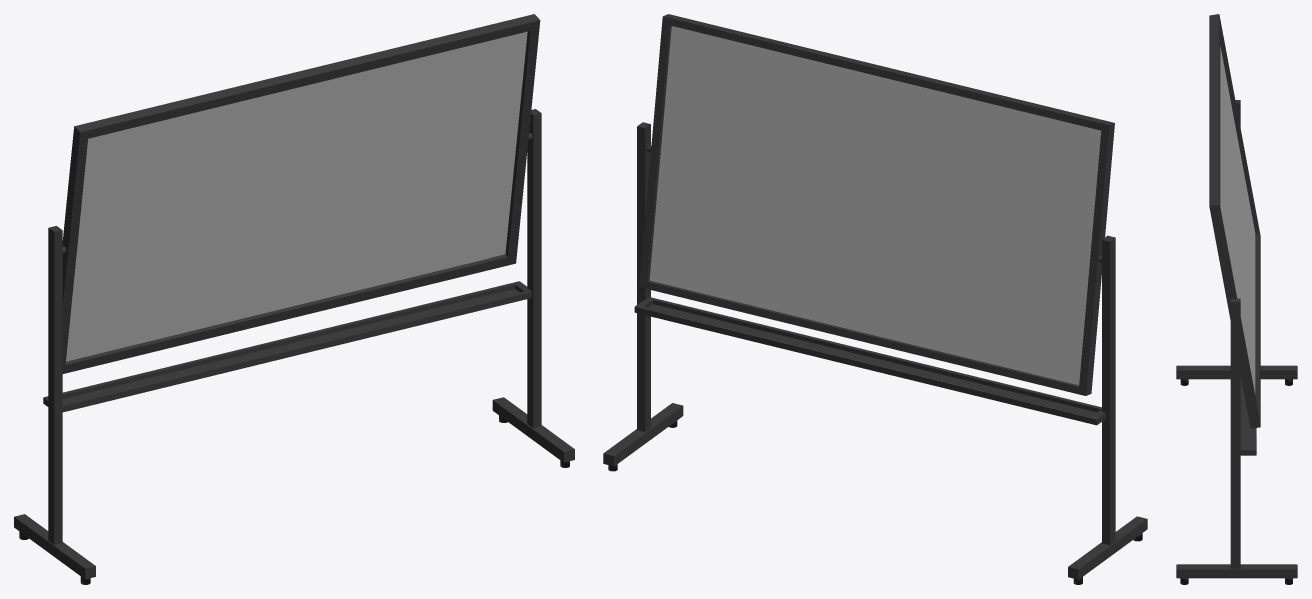
Rendered from whiteboard.fbx.
3 renders of one model, left to right at view 1: azimuth 30°, elevation 25°; view 2: azimuth 150°, elevation 25°; view 3: azimuth 270°, elevation 25°, orthographic. The views are drawn at different scales.
Visible parts, largest first — view 1: whiteboard; view 2: whiteboard; view 3: whiteboard.
Part boxes in pixels (<box>): whiteboard: <box>14,14,574,584</box>; whiteboard: <box>603,14,1147,584</box>; whiteboard: <box>1176,14,1297,584</box>.
Bounding box in the file's own units: 213 × 182 × 53.61.
